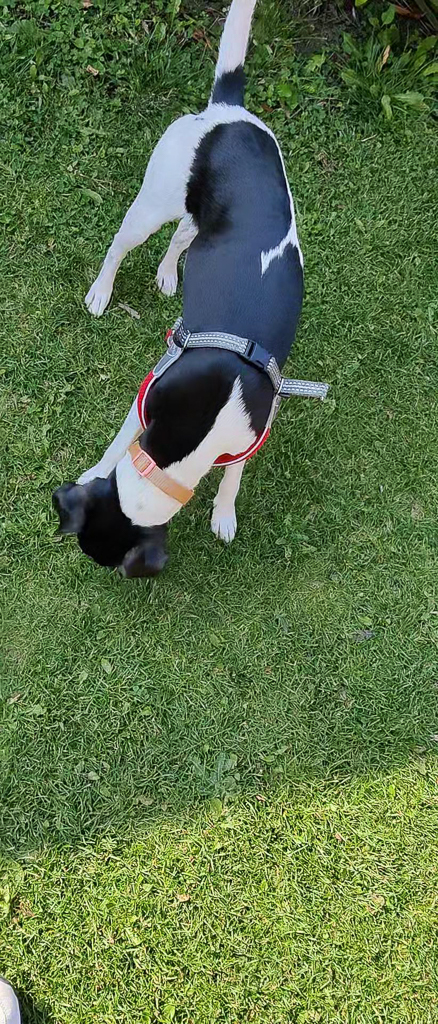Dog: (32, 0, 344, 598)
Humanoid: (0, 966, 34, 1024)
